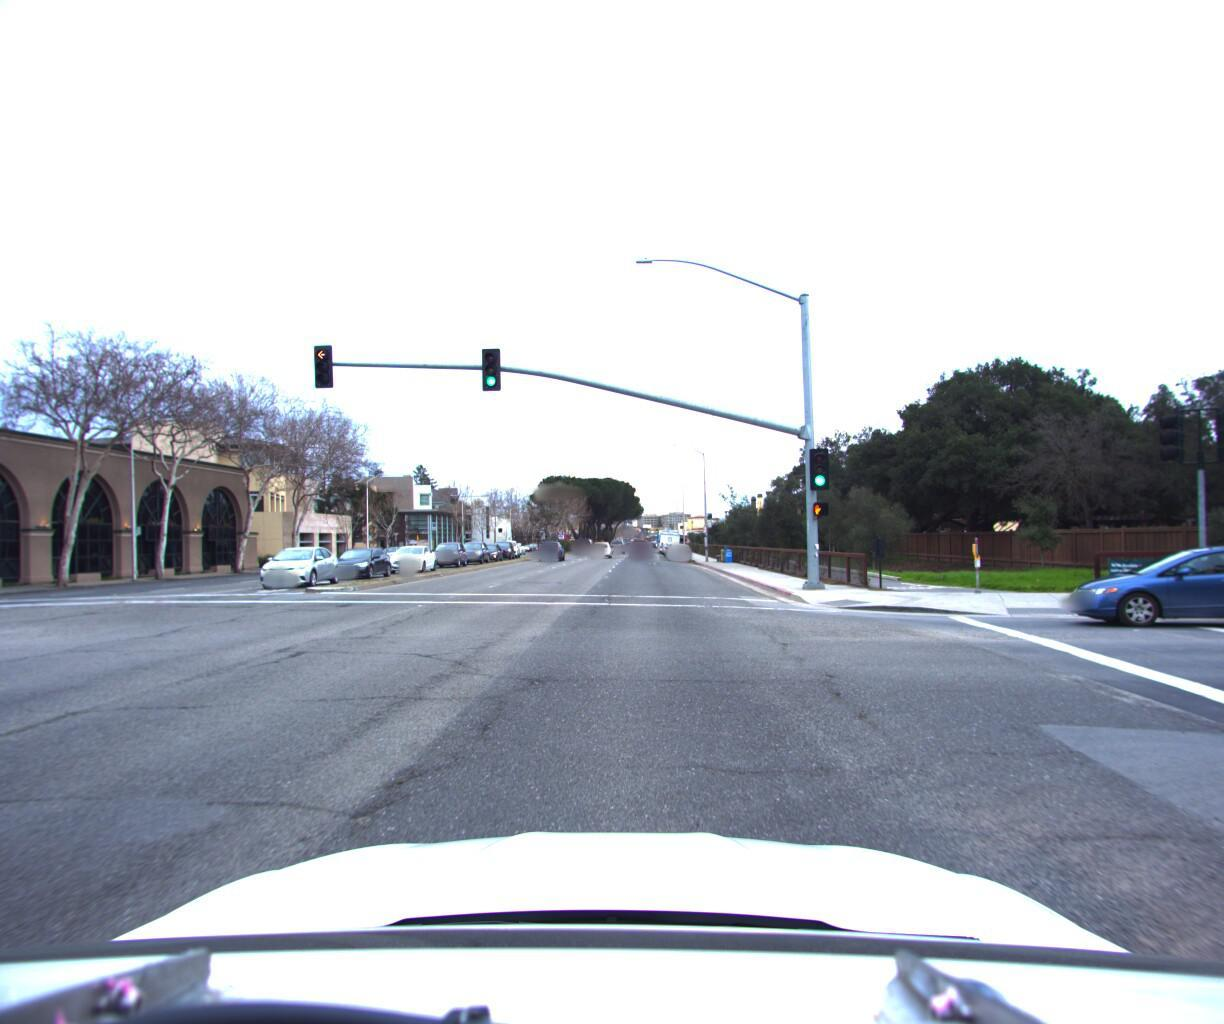car: (1026, 537, 1224, 624), (255, 541, 347, 587), (325, 542, 397, 577), (384, 540, 441, 570), (429, 536, 469, 564), (455, 535, 491, 560), (474, 538, 505, 558), (536, 535, 565, 556), (665, 537, 690, 556), (589, 536, 612, 553), (629, 535, 650, 554)
